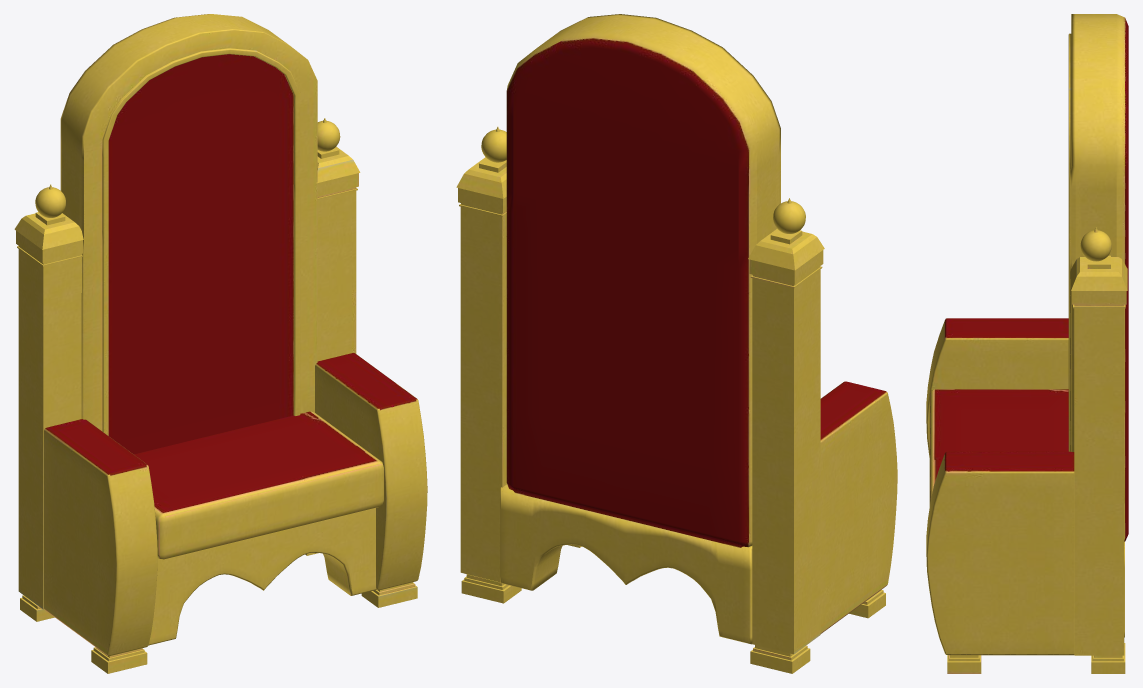
Rendered from throne_chair.glb.
3 views of the same model, side by side, from view 1: azimuth 30°, elevation 25°; view 2: azimuth 150°, elevation 25°; view 3: azimuth 270°, elevation 25° (orthographic). The views are drawn at different scales.
Parts seen in each view (by area): view 1: chair1; view 2: chair1; view 3: chair1.
Boxes of the visible parts, <box> form: chair1: <box>14,14,427,673</box>; chair1: <box>456,14,897,673</box>; chair1: <box>926,14,1128,673</box>.
Size of the model in its own units: 0.6798 by 1.14 by 0.3699.
Materials: 1 (1 with a texture image).
